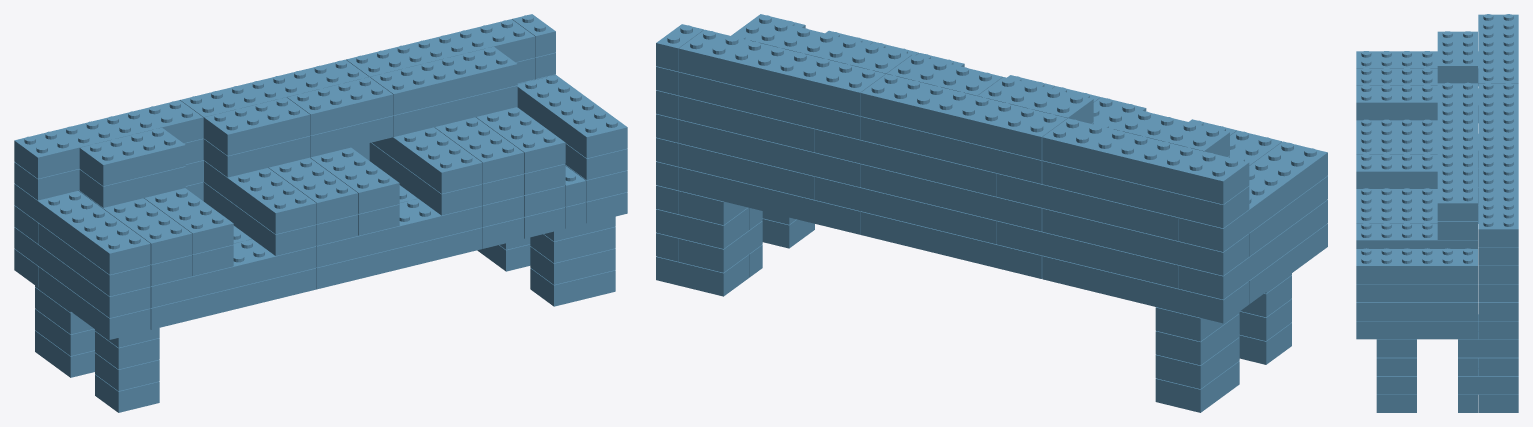
Rendered from collab_sofa-L4V4_raw.glb.
3 views of the same model, side by side, from view 1: azimuth 30°, elevation 25°; view 2: azimuth 150°, elevation 25°; view 3: azimuth 270°, elevation 25° (orthographic). The views are drawn at different scales.
Bounding box in the file's own units: 24.98 × 10.13 × 7.98.
